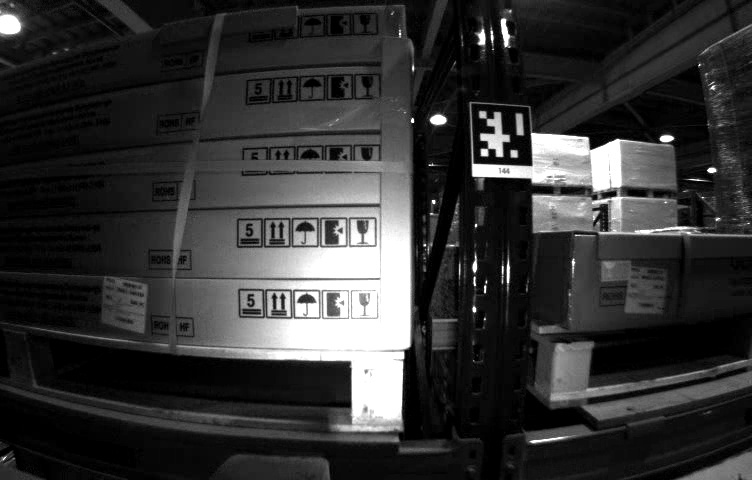True Barcode: (99, 273, 149, 339), (628, 266, 666, 318)
